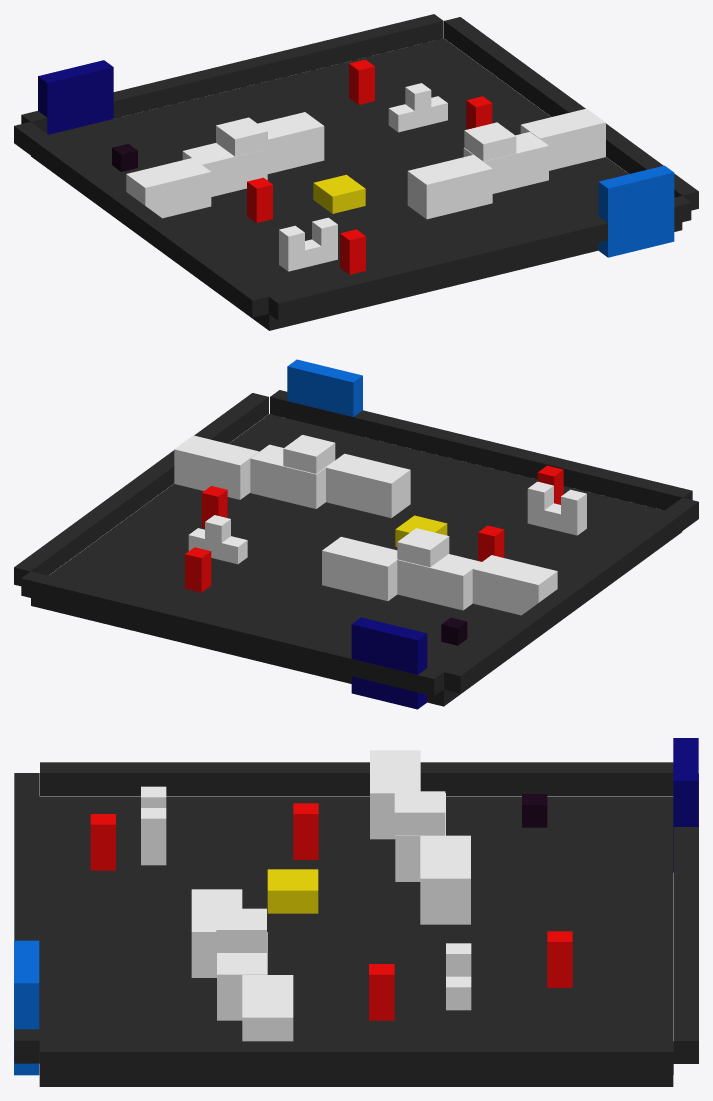
The model's file is level1_b04_25.FBX.
3 views of the same model, one above another, from view 1: azimuth 30°, elevation 25°; view 2: azimuth 150°, elevation 25°; view 3: azimuth 270°, elevation 25° (orthographic). The views are drawn at different scales.
Parts seen in each view (by area): view 1: Box005, Box006, Box007, Box011, Box012, Box008, Box014, Box013, Box009, Box020, Trooper (×2), Box019 (+5 smaller); view 2: Box005, Box007, Box011, Box014, Box008, Box012, Box013, Box006, Box009, Box020, Trooper (×2), Box019 (+5 smaller); view 3: Box005, Box014, Box008, Box012, Blurg (×2), Trooper (×2), Box011, Box006, Box007, Box018, Trap, Box009 (+5 smaller).
Part boxes in pixels (bbox=[...]): Box005: bbox=[14, 14, 698, 330]; Box006: bbox=[598, 165, 674, 257]; Box007: bbox=[38, 60, 113, 134]; Box011: bbox=[407, 155, 492, 219]; Box012: bbox=[126, 158, 211, 218]; Box008: bbox=[520, 108, 605, 170]; Box014: bbox=[258, 112, 324, 173]; Box013: bbox=[182, 143, 267, 196]; Box009: bbox=[463, 132, 548, 193]; Box020: bbox=[279, 217, 337, 271]; Trooper (×2): bbox=[247, 59, 374, 222]; Box019: bbox=[388, 83, 447, 132]; Box005: bbox=[14, 390, 698, 706]; Box007: bbox=[351, 617, 427, 709]; Box011: bbox=[326, 453, 410, 518]; Box014: bbox=[322, 536, 397, 601]; Box008: bbox=[174, 435, 259, 499]; Box012: bbox=[472, 555, 557, 615]; Box013: bbox=[397, 554, 481, 610]; Box006: bbox=[287, 359, 362, 416]; Box009: bbox=[250, 444, 334, 508]; Box020: bbox=[527, 481, 586, 535]; Trooper (×2): bbox=[185, 525, 504, 592]; Box019: bbox=[188, 515, 247, 564]; Box005: bbox=[14, 762, 698, 1086]; Box014: bbox=[420, 835, 470, 924]; Box008: bbox=[242, 975, 293, 1041]; Box012: bbox=[370, 750, 420, 839]; Blurg (×2): bbox=[90, 814, 394, 1020]; Trooper (×2): bbox=[293, 803, 572, 987]; Box011: bbox=[191, 889, 242, 977]; Box006: bbox=[14, 940, 39, 1075]; Box007: bbox=[673, 738, 698, 872]; Box018: bbox=[394, 791, 445, 835]; Trap: bbox=[267, 869, 318, 913]; Box009: bbox=[217, 932, 267, 1020].
Size of the model in its own units: 1064 by 158 by 1064.
